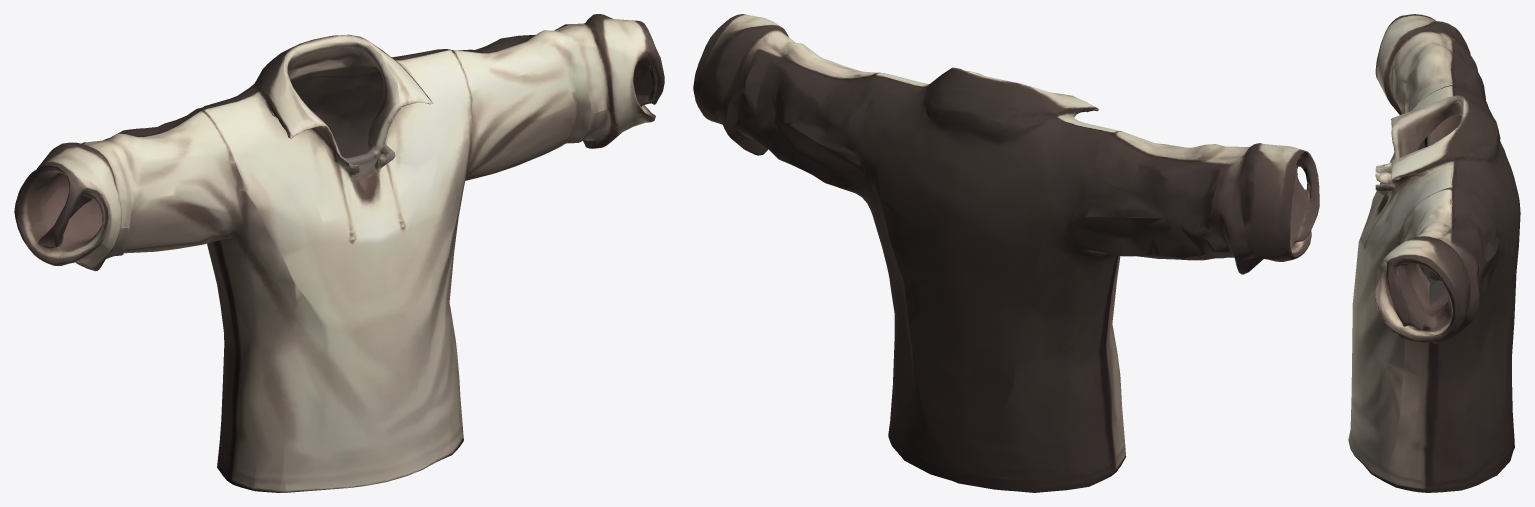
File: mage_m_shirt.glb
3 renders of one model, left to right at view 1: azimuth 30°, elevation 25°; view 2: azimuth 150°, elevation 25°; view 3: azimuth 270°, elevation 25°, orthographic. The views are drawn at different scales.
Parts seen in each view (by area): view 1: world; view 2: world; view 3: world.
Boxes of the visible parts, x1,y1,x2,y2 form: world: (14,14,664,492); world: (693,14,1319,492); world: (1348,14,1520,492).
Bounding box in the file's own units: 1.11 × 0.6897 × 0.3162.
Materials: 1 (1 with a texture image).
